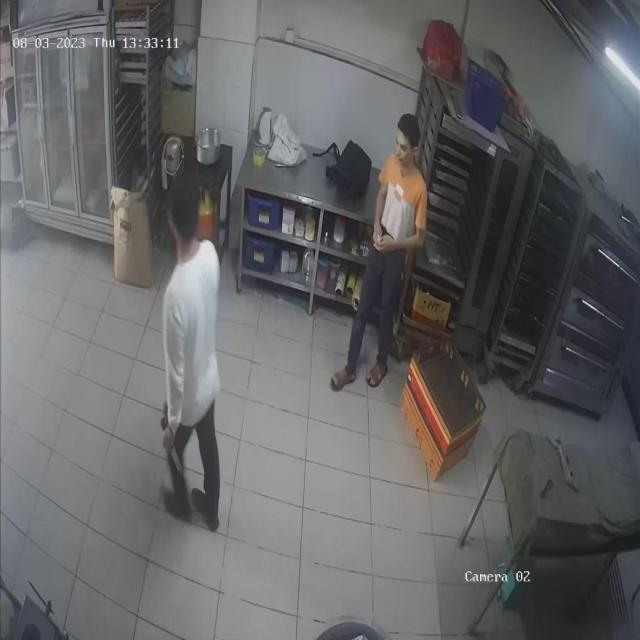Knife: (158, 424, 192, 490)
